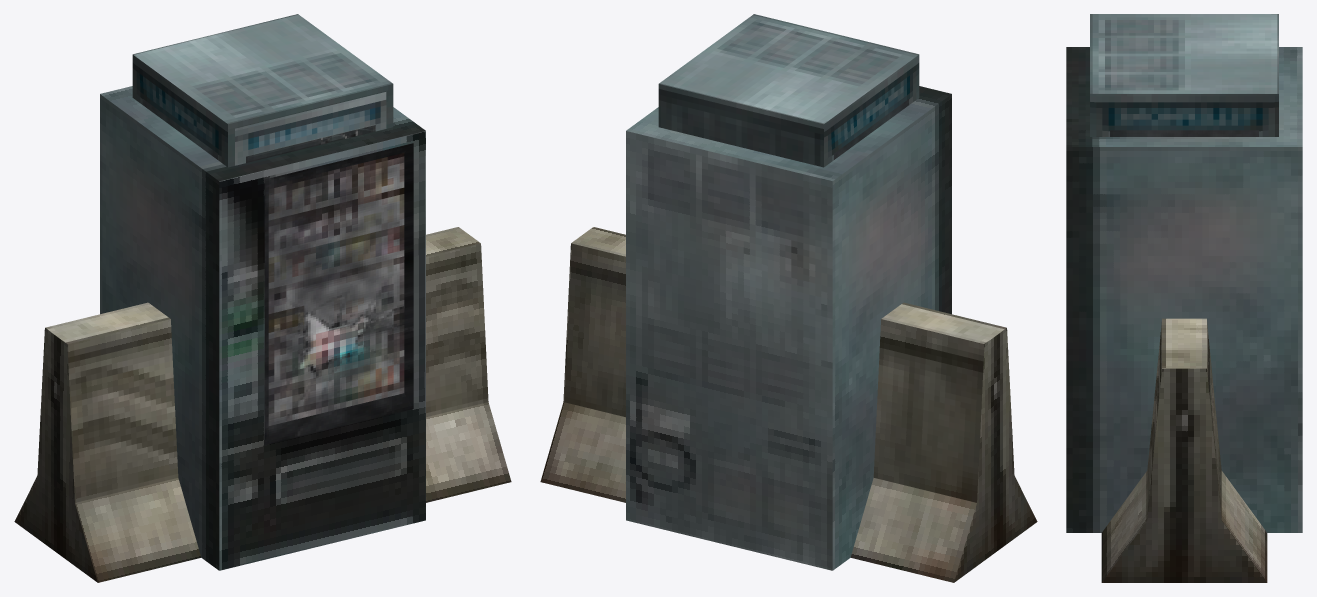
File: low-poly_urban_street_props_pack_ps1_style.glb
3 renders of one model, left to right at view 1: azimuth 30°, elevation 25°; view 2: azimuth 150°, elevation 25°; view 3: azimuth 270°, elevation 25°, orthographic.
Visible parts, largest first — view 1: up_soda_b, up_soda_a, up_barrier_a, up_phonebox_a, up_barrier_b, up_phonebox_b, up_barrier_c; view 2: up_soda_b, up_barrier_a, up_soda_a, up_phonebox_a, up_barrier_b, up_barrier_c; view 3: up_soda_a, up_soda_b, up_barrier_a, up_phonebox_a, up_phonebox_b.
Part boxes in pixels (x1,y1,x2,y2): up_soda_b: (100, 94, 425, 570); up_soda_a: (100, 86, 425, 570); up_barrier_a: (14, 227, 511, 582); up_phonebox_a: (132, 14, 393, 167); up_barrier_b: (46, 303, 486, 501); up_phonebox_b: (143, 99, 375, 162); up_barrier_c: (77, 452, 177, 501); up_soda_b: (626, 121, 912, 570); up_barrier_a: (540, 227, 1037, 582); up_soda_a: (626, 86, 951, 496); up_phonebox_a: (658, 14, 919, 167); up_barrier_b: (564, 303, 1004, 502); up_barrier_c: (567, 365, 975, 502); up_soda_a: (1066, 47, 1302, 532); up_soda_b: (1066, 47, 1302, 532); up_barrier_a: (1101, 318, 1267, 582); up_phonebox_a: (1090, 14, 1278, 136); up_phonebox_b: (1110, 130, 1258, 136).
Size of the model in its own units: 2 by 2 by 1.
17 materials, 17 textured.
